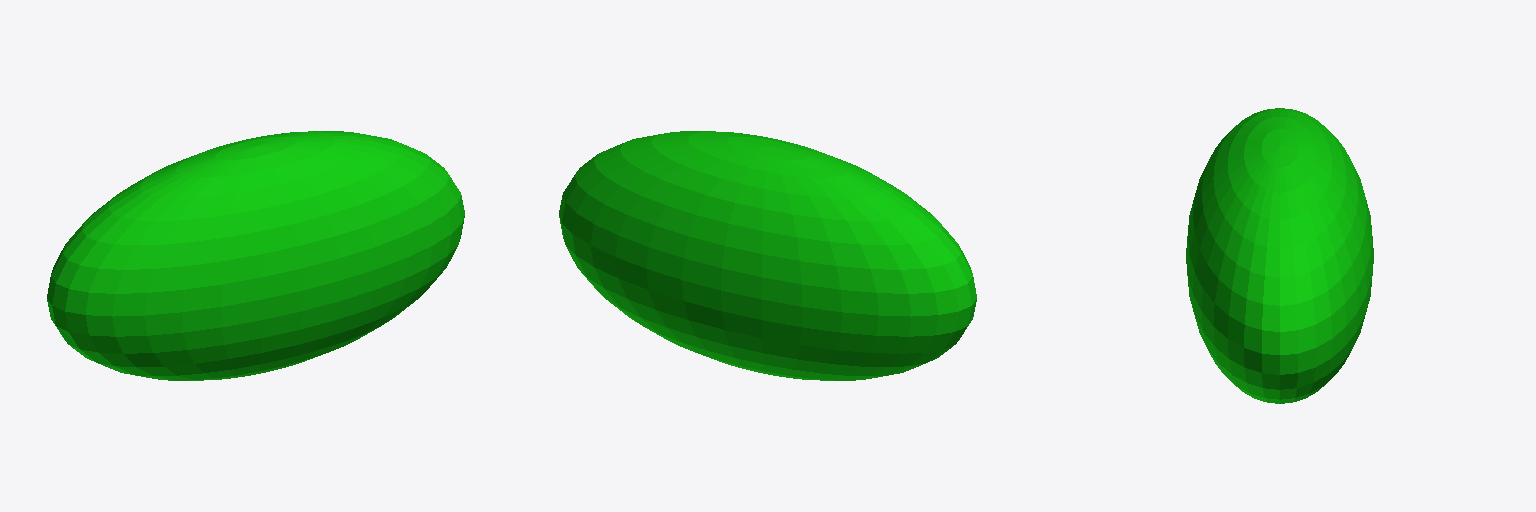
File: moya_aircon_g.obj
3 views of the same model, side by side, from view 1: azimuth 30°, elevation 25°; view 2: azimuth 150°, elevation 25°; view 3: azimuth 270°, elevation 25° (orthographic).
Visible parts, largest first — view 1: Sphere_Sphere.000_Sphere_Sphere.003; view 2: Sphere_Sphere.000_Sphere_Sphere.003; view 3: Sphere_Sphere.000_Sphere_Sphere.003.
Part boxes in pixels (x1,y1,x2,y2): Sphere_Sphere.000_Sphere_Sphere.003: (47, 131, 464, 380); Sphere_Sphere.000_Sphere_Sphere.003: (559, 131, 976, 380); Sphere_Sphere.000_Sphere_Sphere.003: (1186, 108, 1373, 403).
Size of the model in its own units: 0.9189 by 0.4726 by 0.3675.